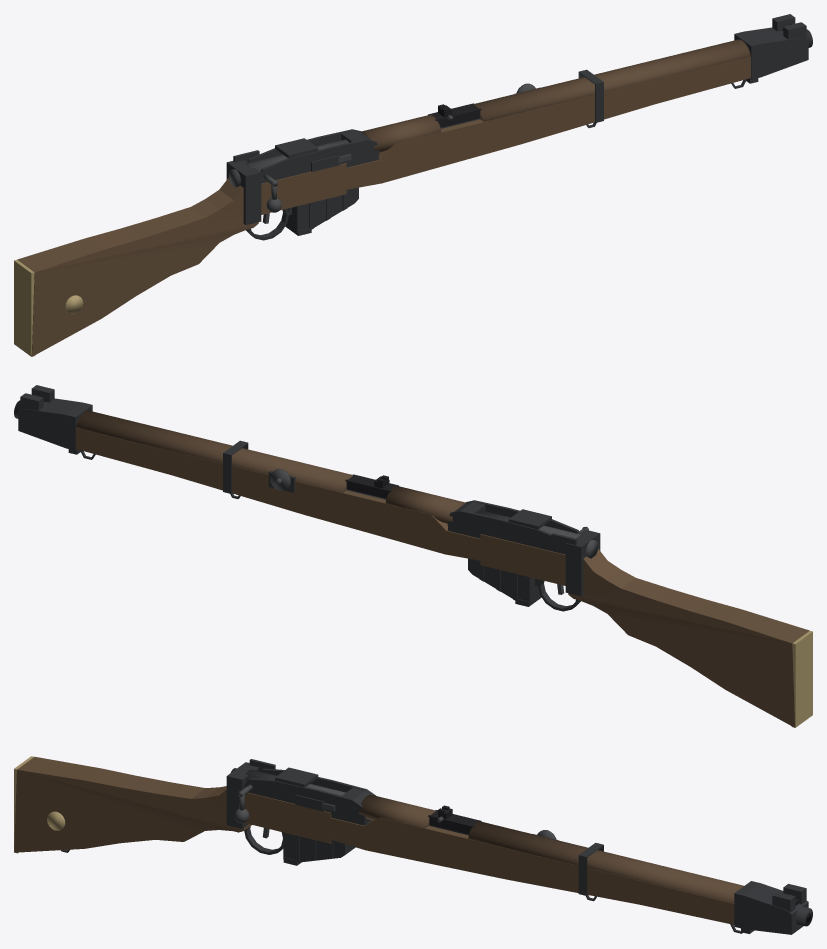
Rendered from smle_mk3_v7_reference_game.fbx.
3 renders of one model, top to bottom at view 1: azimuth 30°, elevation 25°; view 2: azimuth 150°, elevation 25°; view 3: azimuth 330°, elevation 25°, orthographic.
Visible parts, largest first — view 1: smle_mk3_v7_reference; view 2: smle_mk3_v7_reference; view 3: smle_mk3_v7_reference.
Part boxes in pixels (x1,y1,x2,y2): smle_mk3_v7_reference: (14,14,812,356); smle_mk3_v7_reference: (14,385,812,727); smle_mk3_v7_reference: (14,756,812,934).
Size of what is drawn, in the model's own units: 1.12 by 0.1925 by 0.081.
